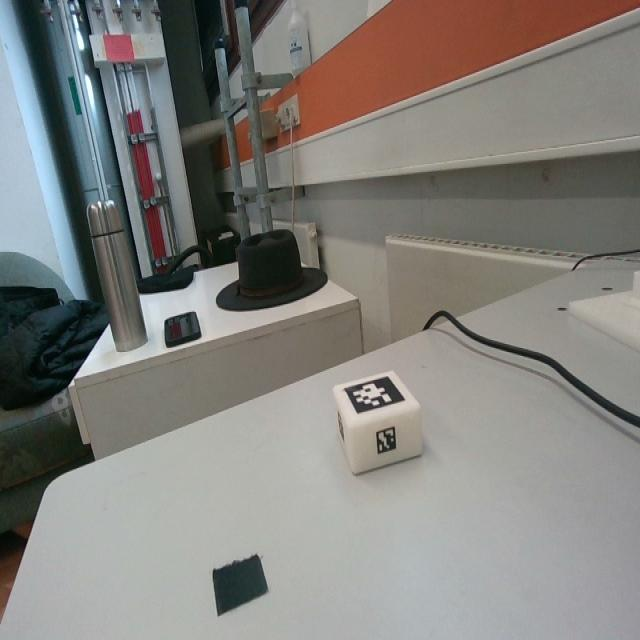Cube: (332, 365, 421, 475)
